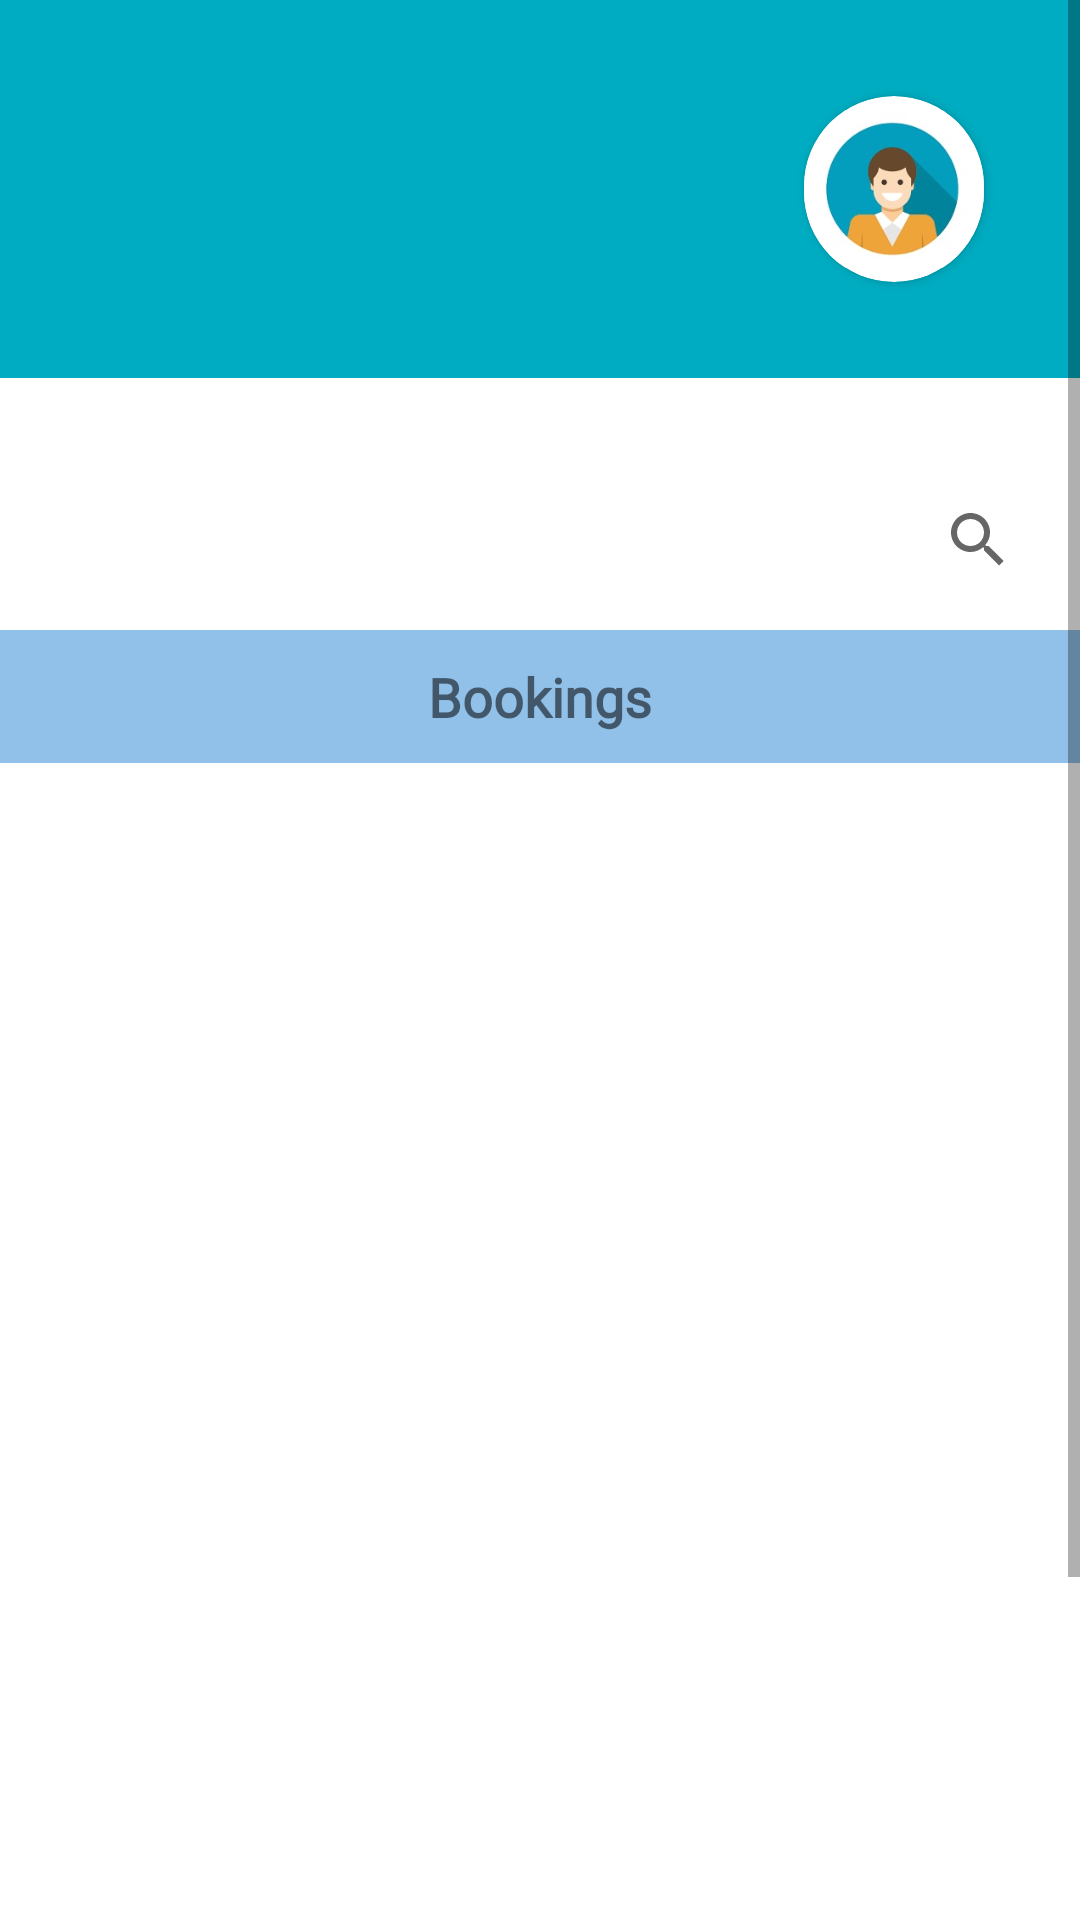

Icons on this 1080px x 1920px Android screen, each with its box as rect(x1, y1, x2, y2):
user: rect(804, 96, 984, 282)
